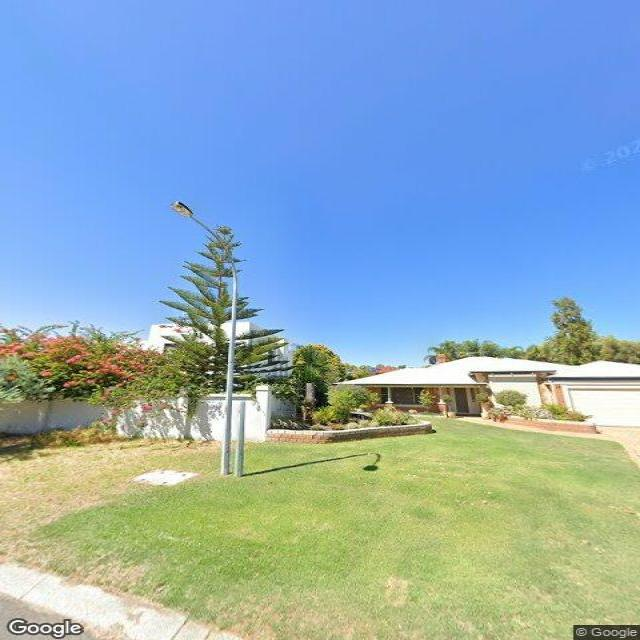steel-pole: (218, 271, 239, 475)
streetlight: (170, 200, 238, 280)
